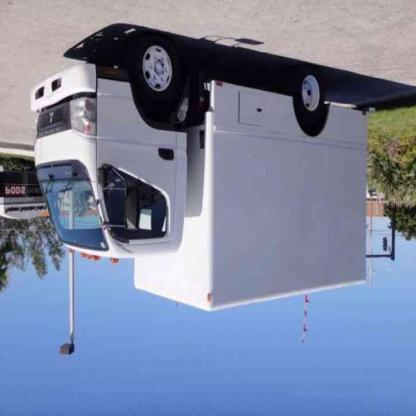truck: (31, 36, 368, 314)
